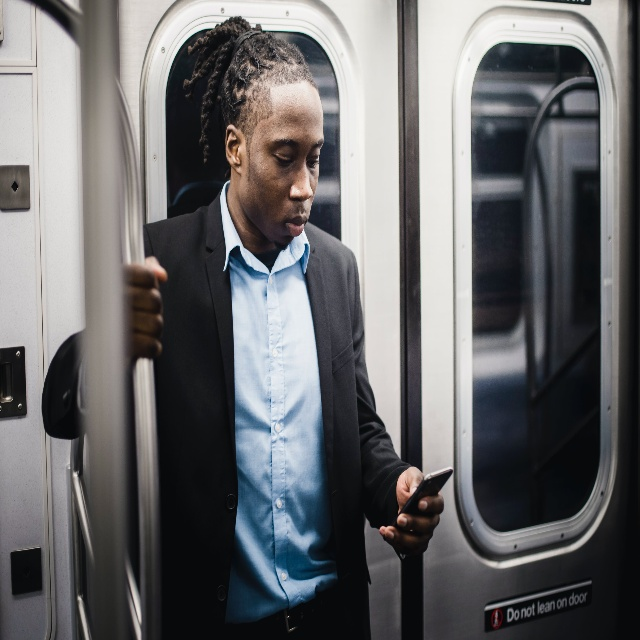Sin_guantes: (378, 467, 446, 566), (121, 257, 168, 360)
